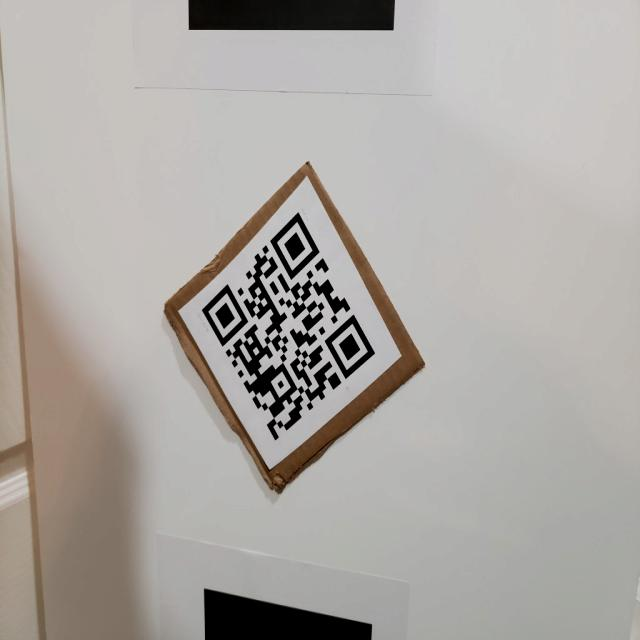QRCode: (191, 206, 386, 452)
